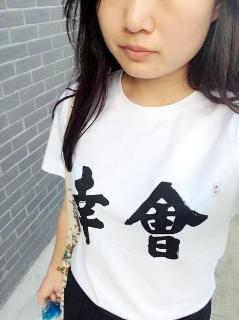short sleeve top: (41, 69, 239, 319)
